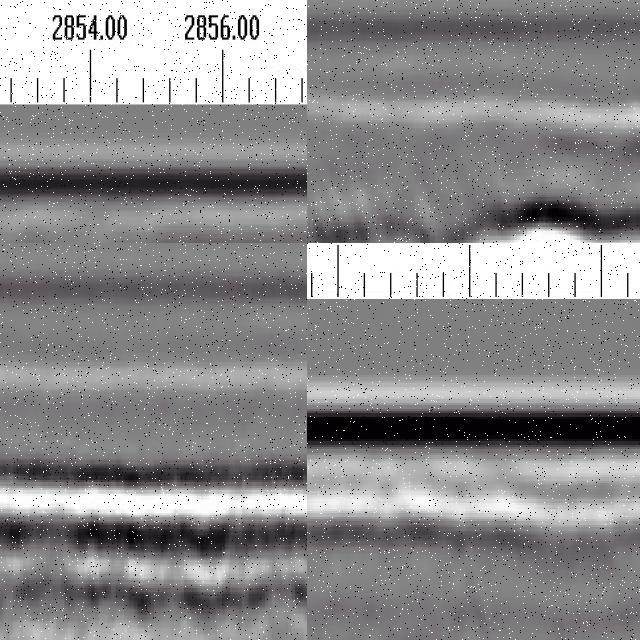loose: (487, 179, 640, 244), (308, 170, 398, 244)
